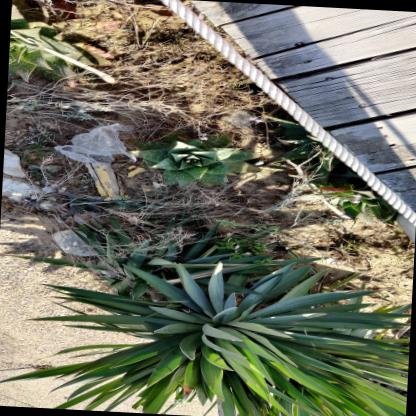Paper: (36, 238, 42, 243)
Plastic: (53, 122, 135, 166), (68, 199, 135, 217), (51, 203, 85, 223), (222, 111, 260, 127)
